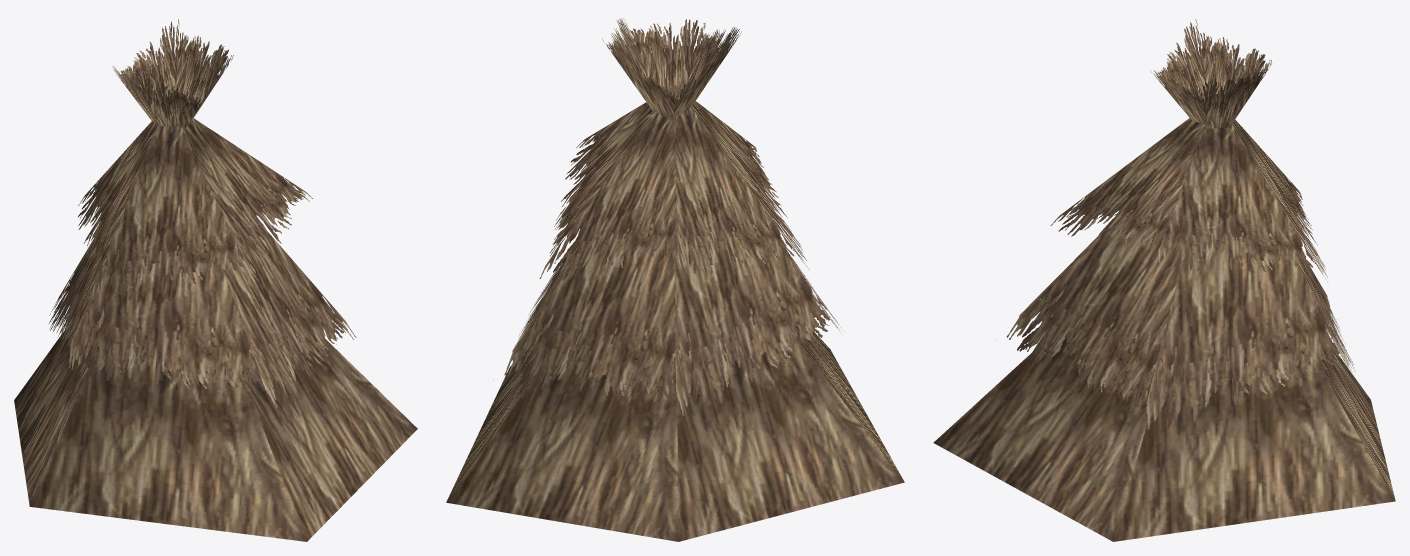
Rendered from daocaodui_tyc_60.FBX.
The picture shows the model from 3 angles, left to right: view 1: azimuth 30°, elevation 25°; view 2: azimuth 150°, elevation 25°; view 3: azimuth 270°, elevation 25°; orthographic projection. The views are drawn at different scales.
Visible parts, largest first — view 1: daocaodui_tyc_60; view 2: daocaodui_tyc_60; view 3: daocaodui_tyc_60.
Boxes of the visible parts, left/top/right/bottom form: daocaodui_tyc_60: left=14, top=19, right=417, bottom=541; daocaodui_tyc_60: left=446, top=18, right=904, bottom=541; daocaodui_tyc_60: left=933, top=19, right=1395, bottom=541.
Size of what is drawn, in the model's own units: 427 by 435 by 452.
